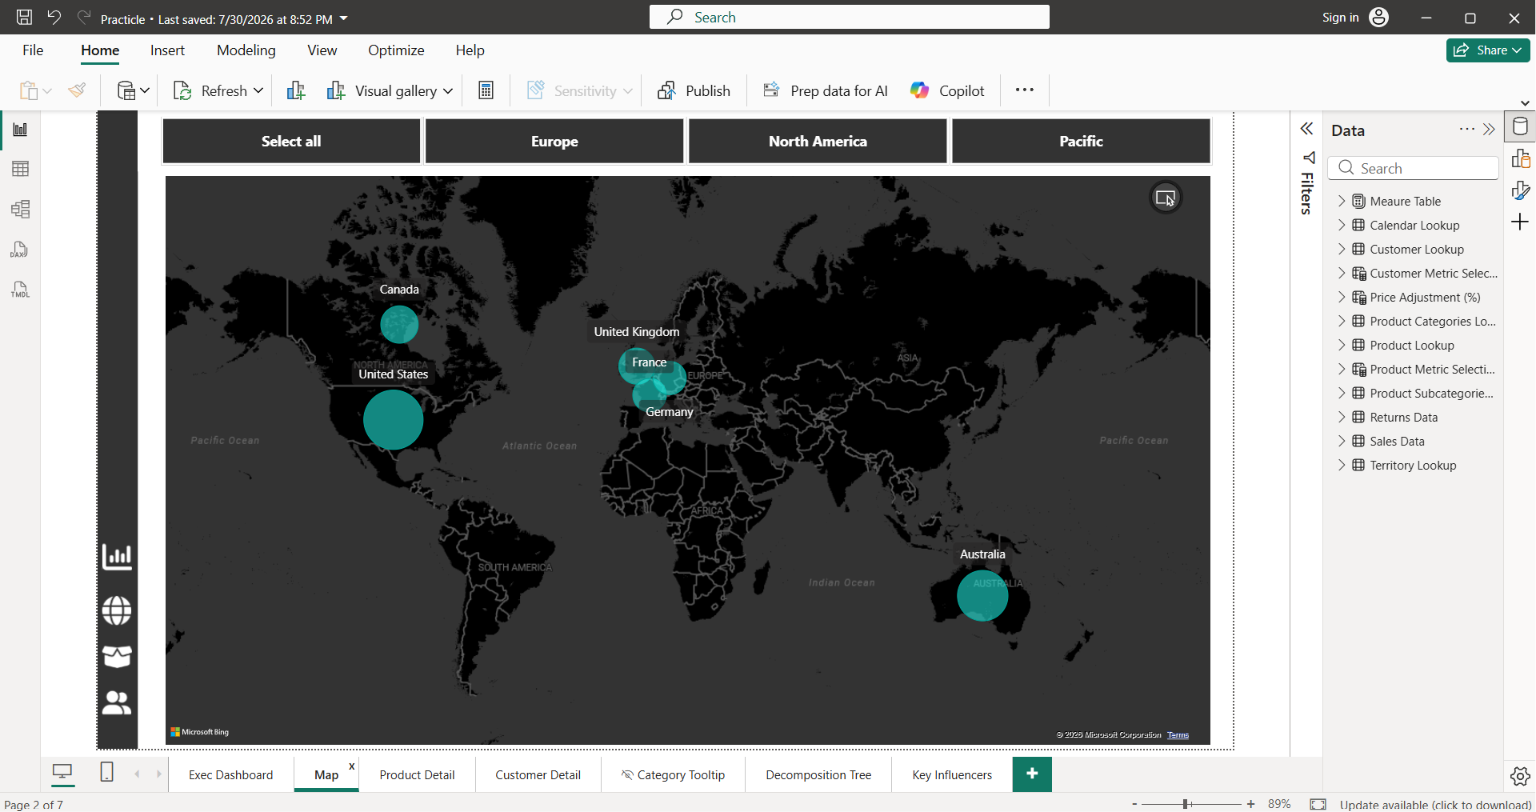

The page's visual inventory and layout, read from the dashboard file:
{"tool":"powerbi","page":{"name":"Map","canvas":[1280,720],"ordinal":1},"visuals":[{"type":"shape","box":[0,0,45.3,719.8],"z":0},{"type":"actionButton","box":[1.2,482.6,44.4,42],"z":0,"group":"g1"},{"type":"map","fields":{"Category":["Territory Lookup.Country"],"Size":["Meaure Table.Total Order"]},"box":[72.1,68.6,1187.2,651.2],"z":1000},{"type":"actionButton","box":[1.2,543.9,44.4,41],"z":1000,"group":"g1"},{"type":"slicer","fields":{"Values":["Territory Lookup.Continent"]},"box":[45.3,0,1234.9,68.6],"z":2000},{"type":"actionButton","box":[1.2,595.3,44,42],"z":2000,"group":"g1"},{"type":"group","id":"g1","title":"Navigation Buttons","box":[1.2,482.6,44.2,205.8],"z":3000},{"type":"actionButton","box":[1.2,647.1,44.4,41],"z":3000,"group":"g1"}]}

Visuals, with their boxes on the page's 1280x720 design canvas (x1, y1, x2, y2). These are canvas units, not pixel positions in the 1536x812 screenshot, which may show the page scaled, cropped or inside an application window:
shape: rect(0, 0, 45, 720)
actionButton: rect(1, 483, 46, 525)
map - Territory Lookup.Country x Meaure Table.Total Order: rect(72, 69, 1259, 720)
actionButton: rect(1, 544, 46, 585)
slicer - Territory Lookup.Continent: rect(45, 0, 1280, 69)
actionButton: rect(1, 595, 45, 637)
"Navigation Buttons" group: rect(1, 483, 45, 688)
actionButton: rect(1, 647, 46, 688)
